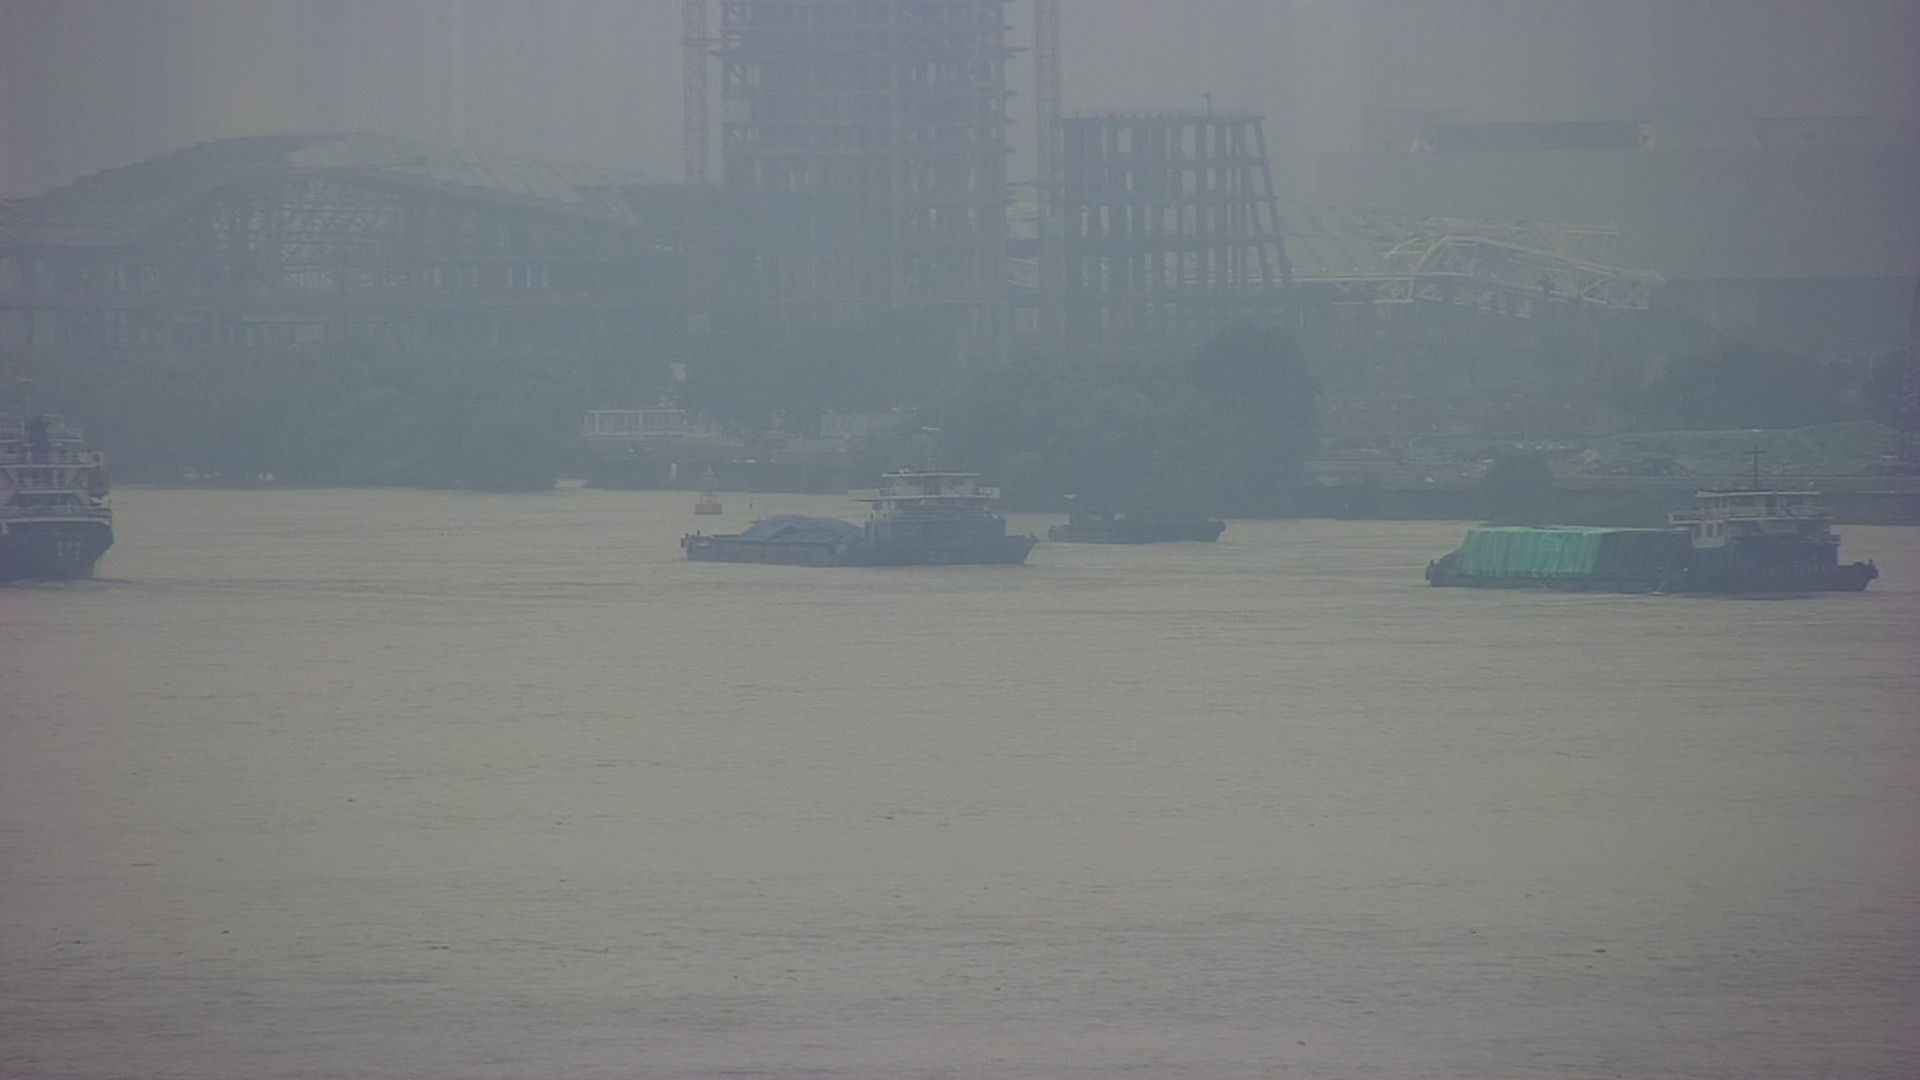boat: (1040, 462, 1251, 555)
buoy: (687, 458, 741, 522)
ship: (1408, 404, 1898, 608), (661, 393, 1050, 580), (1, 373, 161, 596)
